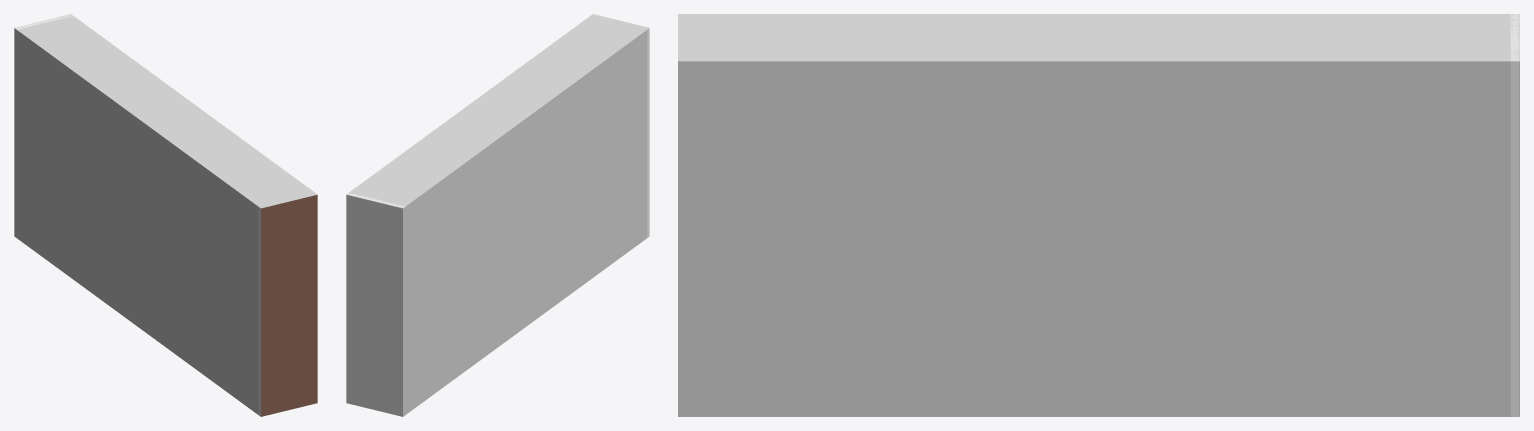
Rendered from rack.dae.
3 renders of one model, left to right at view 1: azimuth 30°, elevation 25°; view 2: azimuth 150°, elevation 25°; view 3: azimuth 270°, elevation 25°, orthographic. The views are drawn at different scales.
Visible parts, largest first — view 1: Colmesh-1, rack_a200; view 2: Colmesh-1, rack_a200; view 3: Colmesh-1, rack_a200.
Boxes of the visible parts, <box> form: Colmesh-1: <box>14,14,317,414</box>; rack_a200: <box>15,14,317,416</box>; Colmesh-1: <box>346,14,649,416</box>; rack_a200: <box>347,28,649,237</box>; Colmesh-1: <box>678,14,1519,416</box>; rack_a200: <box>1510,14,1519,416</box>.
Bounding box in the file's own units: 0.8953 × 6.73 × 3.14.
